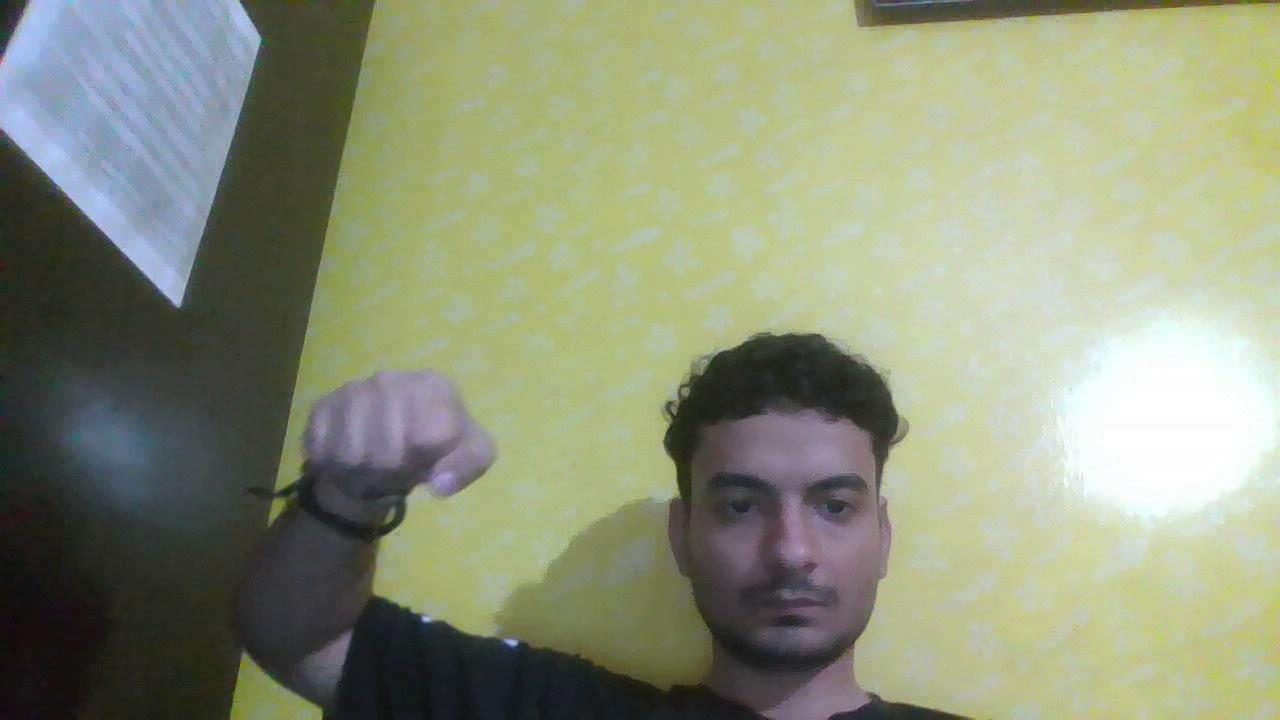Yes: (280, 345, 509, 518)
